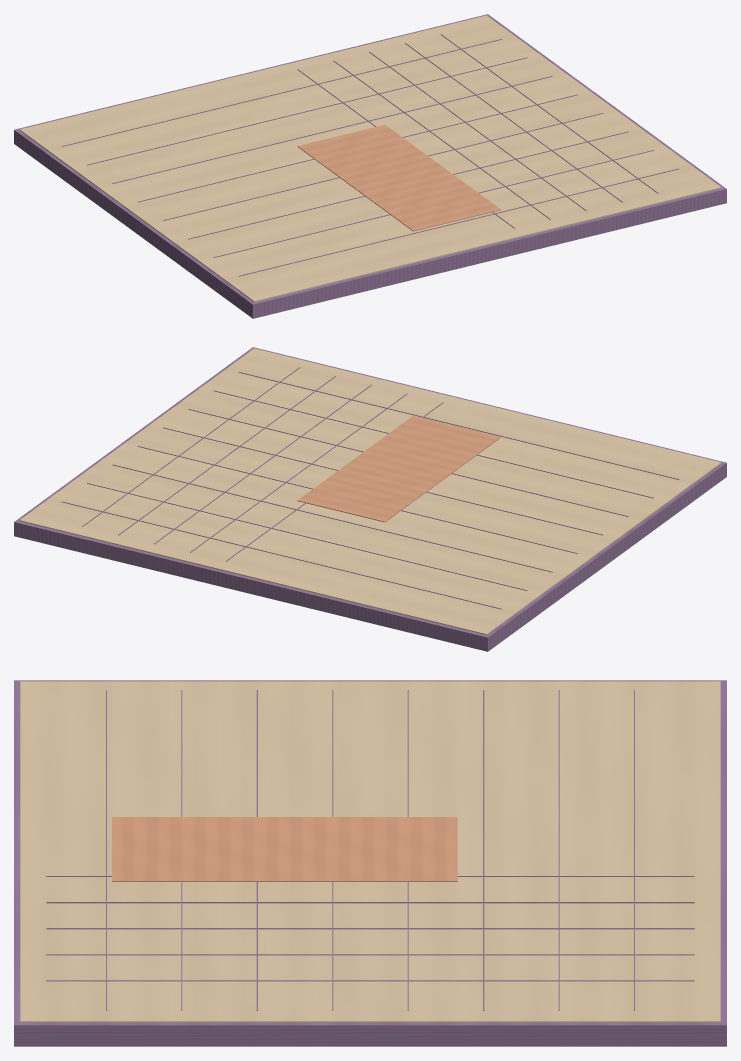
The model's file is atlas100-s084-a07.lod2.glb.
The picture shows the model from 3 angles, top to bottom: view 1: azimuth 30°, elevation 25°; view 2: azimuth 150°, elevation 25°; view 3: azimuth 270°, elevation 25°; orthographic projection. The views are drawn at different scales.
Visible parts, largest first — view 1: atlas100-s084-a07:part-001, atlas100-s084-a07:part-000, atlas100-s084-a07:part-021, atlas100-s084-a07:part-014, atlas100-s084-a07:part-020, atlas100-s084-a07:part-015, atlas100-s084-a07:part-013, atlas100-s084-a07:part-018, atlas100-s084-a07:part-019, atlas100-s084-a07:part-017, atlas100-s084-a07:part-016; view 2: atlas100-s084-a07:part-001, atlas100-s084-a07:part-000, atlas100-s084-a07:part-021, atlas100-s084-a07:part-015, atlas100-s084-a07:part-013, atlas100-s084-a07:part-014, atlas100-s084-a07:part-020, atlas100-s084-a07:part-016, atlas100-s084-a07:part-017, atlas100-s084-a07:part-018, atlas100-s084-a07:part-019; view 3: atlas100-s084-a07:part-001, atlas100-s084-a07:part-000, atlas100-s084-a07:part-021, atlas100-s084-a07:part-009, atlas100-s084-a07:part-010, atlas100-s084-a07:part-011, atlas100-s084-a07:part-012, atlas100-s084-a07:part-014, atlas100-s084-a07:part-015.
Boxes of the visible parts, x1,y1,x2,y2 form: atlas100-s084-a07:part-001: (19,15,721,301); atlas100-s084-a07:part-000: (14,14,726,318); atlas100-s084-a07:part-021: (297,124,500,231); atlas100-s084-a07:part-014: (87,57,527,165); atlas100-s084-a07:part-020: (239,168,678,276); atlas100-s084-a07:part-015: (112,76,552,183); atlas100-s084-a07:part-013: (62,39,502,146); atlas100-s084-a07:part-018: (188,131,628,239); atlas100-s084-a07:part-019: (213,150,653,257); atlas100-s084-a07:part-017: (163,113,603,220); atlas100-s084-a07:part-016: (138,94,577,202); atlas100-s084-a07:part-001: (19,348,721,634); atlas100-s084-a07:part-000: (14,347,726,651); atlas100-s084-a07:part-021: (297,415,500,522); atlas100-s084-a07:part-015: (112,464,552,572); atlas100-s084-a07:part-013: (62,501,501,609); atlas100-s084-a07:part-014: (87,483,527,590); atlas100-s084-a07:part-020: (238,372,678,479); atlas100-s084-a07:part-016: (137,446,577,553); atlas100-s084-a07:part-017: (163,427,602,535); atlas100-s084-a07:part-018: (188,409,628,516); atlas100-s084-a07:part-019: (213,390,653,498); atlas100-s084-a07:part-001: (20,681,720,1022); atlas100-s084-a07:part-000: (14,680,726,1046); atlas100-s084-a07:part-021: (112,817,457,881); atlas100-s084-a07:part-009: (46,902,694,903); atlas100-s084-a07:part-010: (46,928,694,929); atlas100-s084-a07:part-011: (46,954,694,955); atlas100-s084-a07:part-012: (46,980,694,981); atlas100-s084-a07:part-014: (558,690,559,1010); atlas100-s084-a07:part-015: (483,690,484,1010).
Size of the model in its own units: 11.9 by 0.404 by 10.4.
3 materials, 3 textured.
